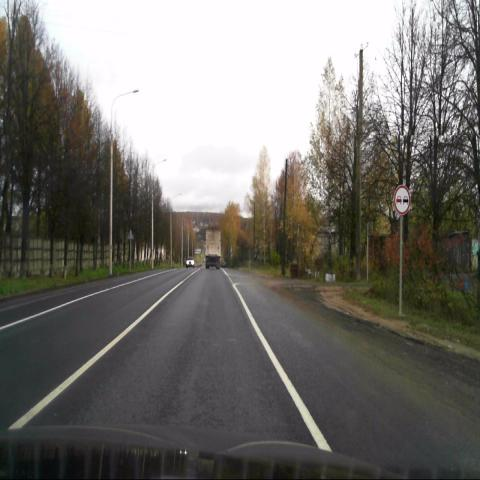3_20: (394, 186, 411, 216)
